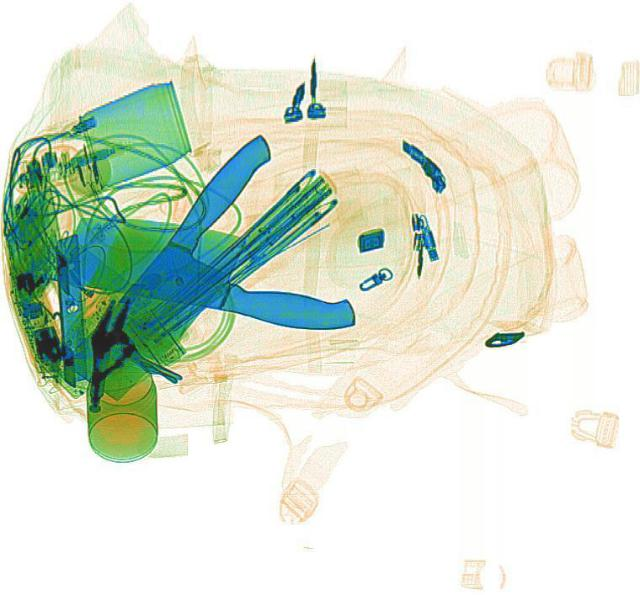Knife: (48, 127, 320, 402), (52, 204, 368, 335)
